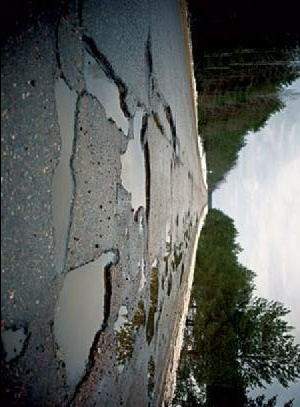pothole: (49, 245, 123, 406), (47, 74, 83, 272), (81, 31, 132, 138), (116, 103, 149, 222), (112, 298, 147, 371), (148, 91, 179, 150), (147, 256, 163, 346), (0, 323, 33, 364), (142, 35, 155, 76), (146, 355, 157, 401)
